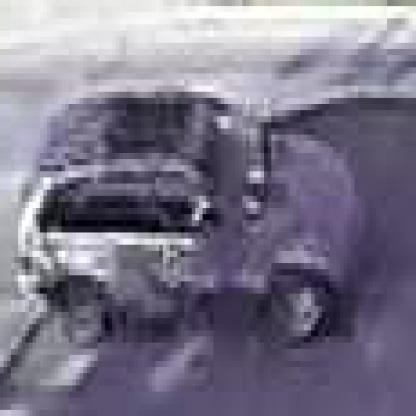car: (19, 87, 370, 356)
